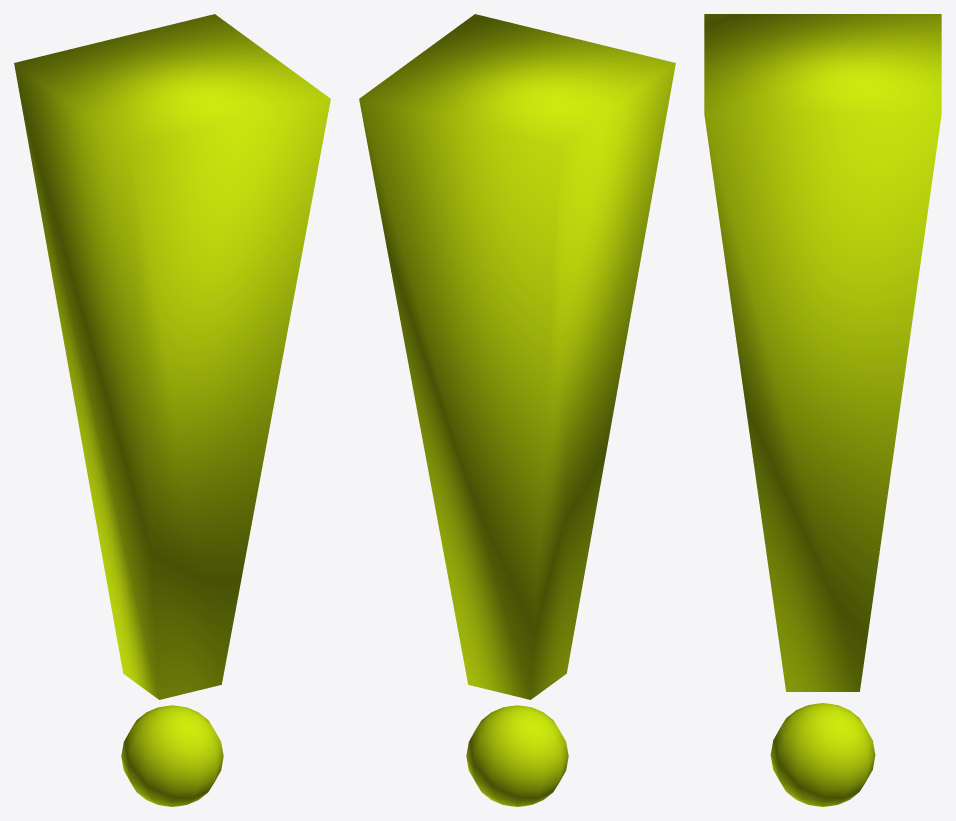
File: huutomerki.fbx
3 renders of one model, left to right at view 1: azimuth 30°, elevation 25°; view 2: azimuth 150°, elevation 25°; view 3: azimuth 270°, elevation 25°, orthographic. The views are drawn at different scales.
Visible parts, largest first — view 1: Cube; view 2: Cube; view 3: Cube.
Boxes of the visible parts, x1=… form: Cube: x1=14, y1=14, x2=330, y2=806; Cube: x1=359, y1=14, x2=675, y2=806; Cube: x1=704, y1=14, x2=941, y2=806.
Bounding box in the file's own units: 169 × 579 × 169.
